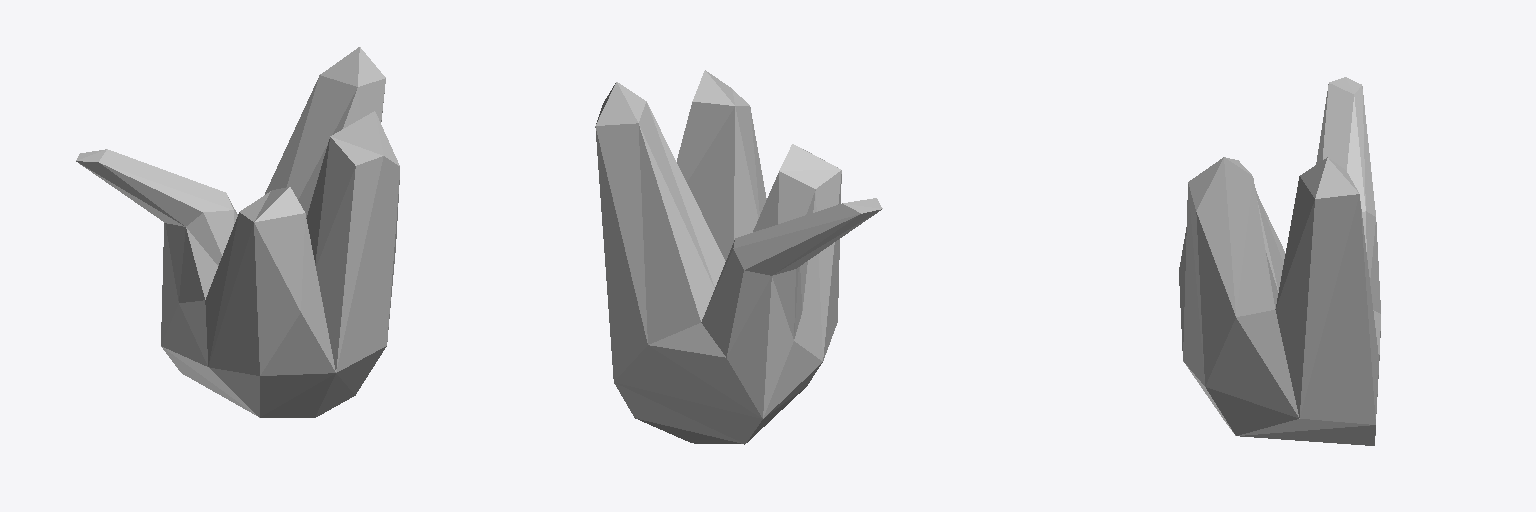
File: fur.obj
3 views of the same model, side by side, from view 1: azimuth 30°, elevation 25°; view 2: azimuth 150°, elevation 25°; view 3: azimuth 270°, elevation 25° (orthographic).
Parts seen in each view (by area): view 1: Cube; view 2: Cube; view 3: Cube.
Boxes of the visible parts, x1,y1,x2,y2 form: Cube: [76, 47, 399, 417]; Cube: [595, 70, 882, 444]; Cube: [1179, 77, 1380, 445].
Size of the model in its own units: 3.44 by 3.58 by 2.04.